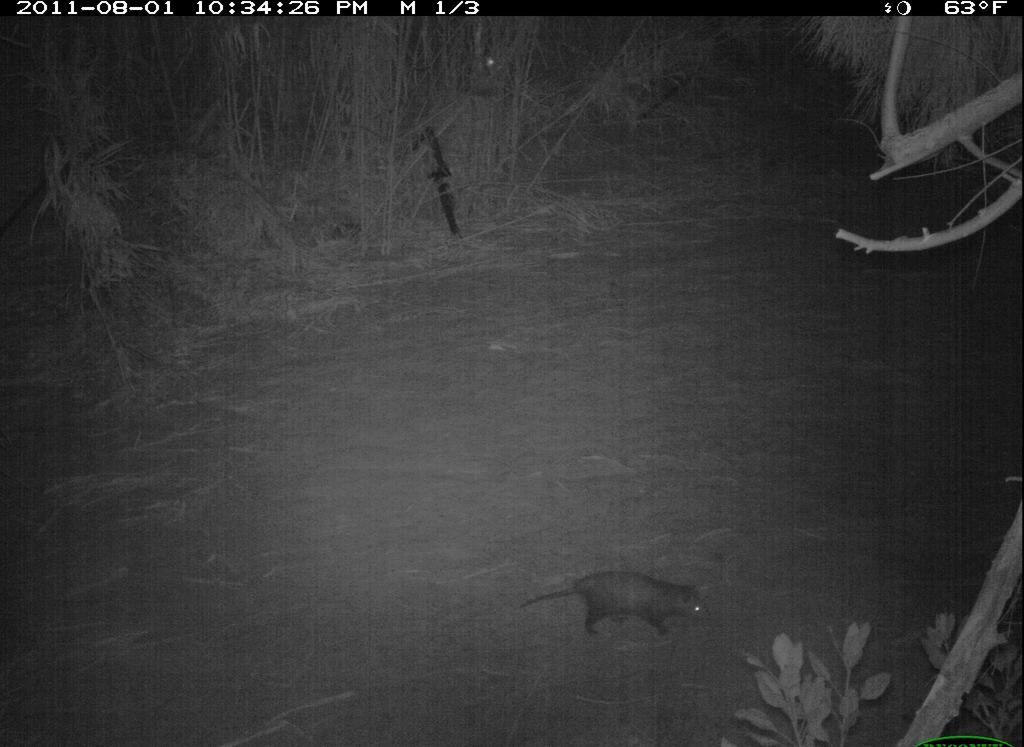opossum: (514, 565, 722, 649)
